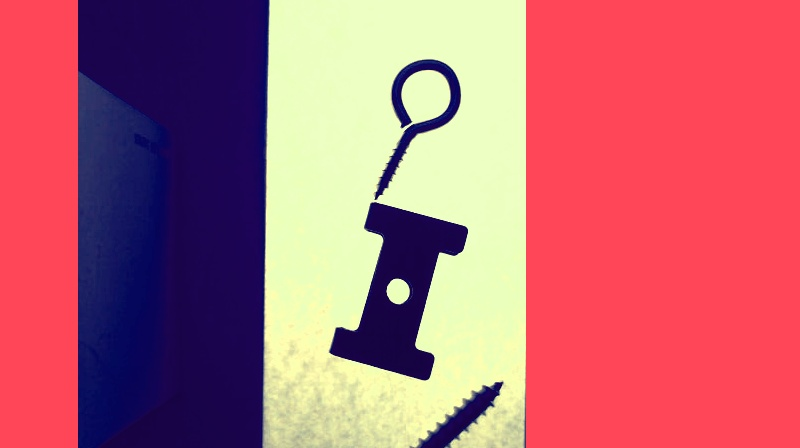O001: (370, 58, 463, 202)
O002: (326, 206, 469, 381)
S001: (362, 382, 503, 447)
